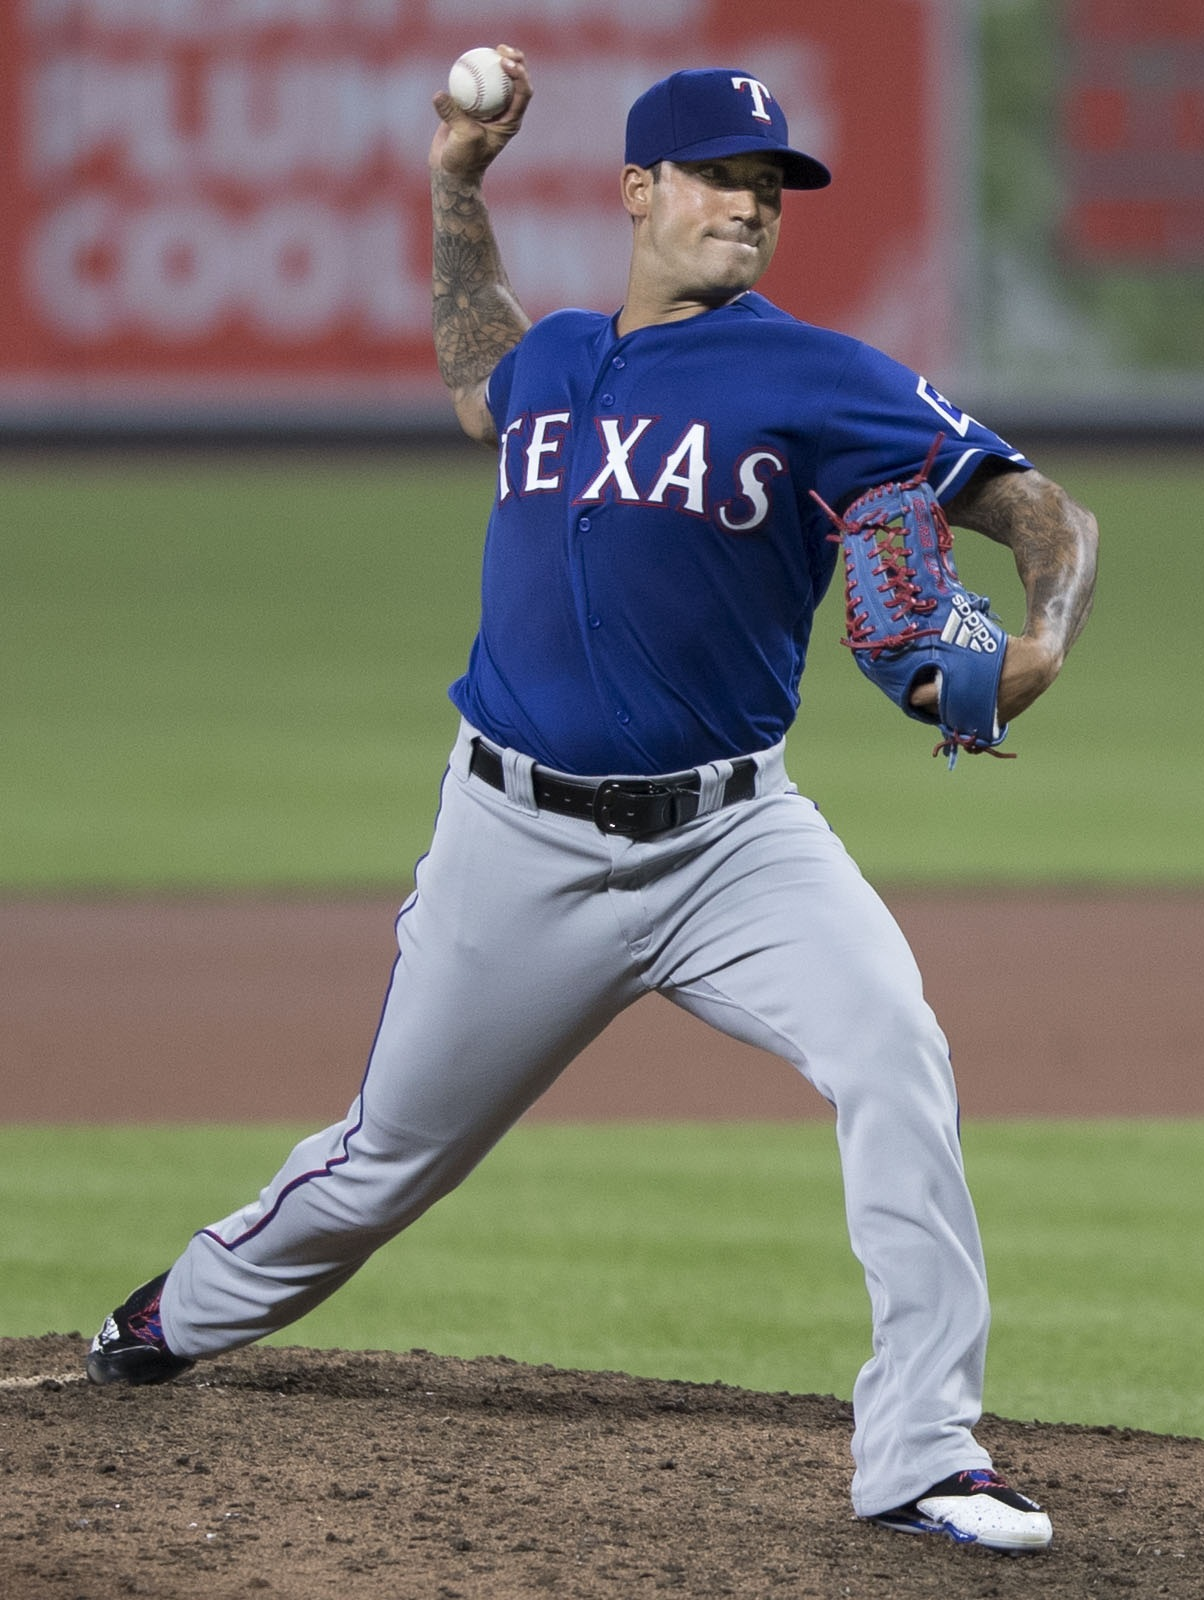Hip: (464, 716, 758, 828)
LeftElbow: (1008, 460, 1107, 626)
LeftKnee: (822, 927, 962, 1161)
LeftShoulder: (790, 280, 923, 463)
RightKnee: (302, 1030, 405, 1314)
Torso: (522, 373, 725, 667)
